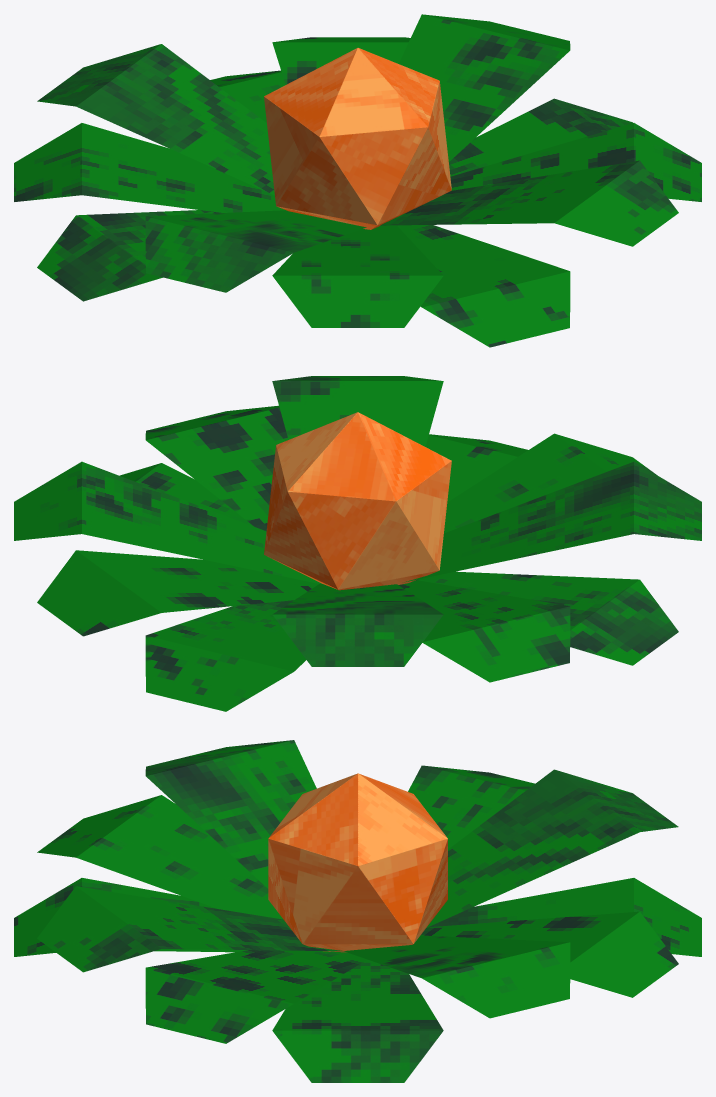
File: Plant5.fbx
The picture shows the model from 3 angles, top to bottom: view 1: azimuth 30°, elevation 25°; view 2: azimuth 150°, elevation 25°; view 3: azimuth 270°, elevation 25°; orthographic projection.
Visible parts, largest first — view 1: Leafs, Plant; view 2: Leafs, Plant; view 3: Leafs, Plant.
Part boxes in pixels (left/top/right/bottom): Leafs: left=14, top=14, right=701, bottom=347; Plant: left=264, top=48, right=451, bottom=229; Leafs: left=14, top=376, right=701, bottom=711; Plant: left=264, top=412, right=451, bottom=590; Leafs: left=14, top=740, right=701, bottom=1082; Plant: left=268, top=773, right=447, bottom=952.
Bounding box in the file's own units: 2.64 × 0.81 × 2.64.
Materials: 1 (1 with a texture image).
